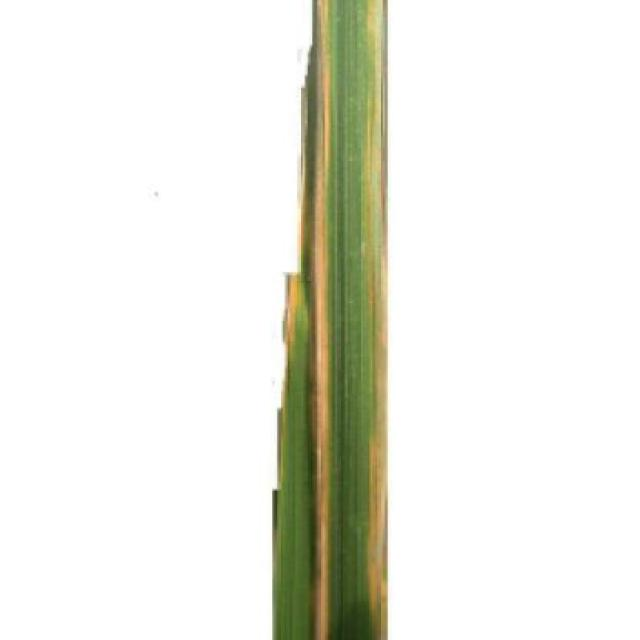Brown_Spot: (262, 0, 396, 640)
